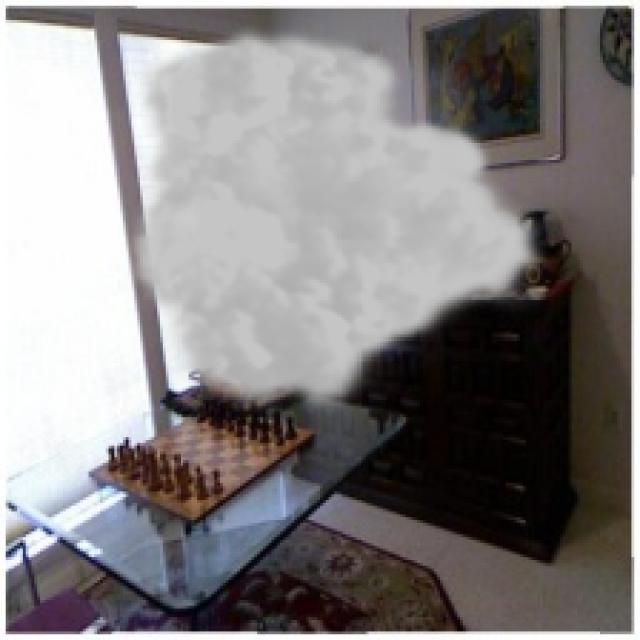smoke: (126, 23, 551, 420)
